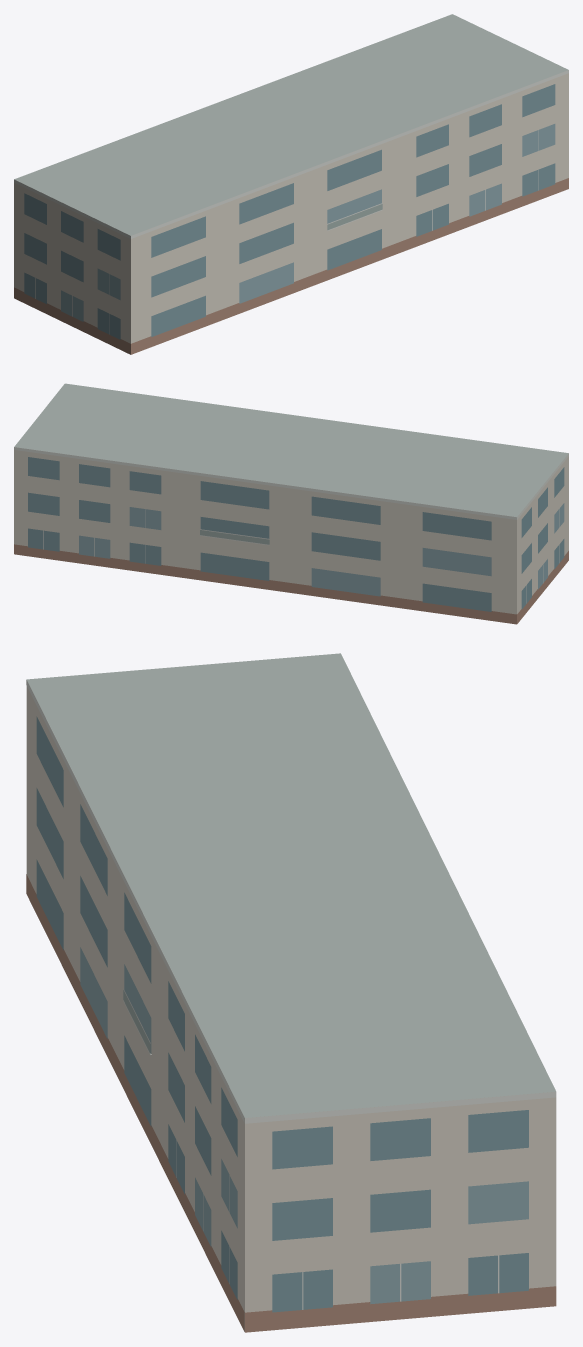
File: survey-upis-32696552.glb
3 renders of one model, top to bottom at view 1: azimuth 30°, elevation 25°; view 2: azimuth 150°, elevation 25°; view 3: azimuth 270°, elevation 25°, orthographic. The views are drawn at different scales.
Parts seen in each view (by area): view 1: survey-upis-32696552.tmp; view 2: survey-upis-32696552.tmp; view 3: survey-upis-32696552.tmp.
Part boxes in pixels (<box>): survey-upis-32696552.tmp: <box>14,14,568,354</box>; survey-upis-32696552.tmp: <box>14,383,568,624</box>; survey-upis-32696552.tmp: <box>26,653,556,1332</box>.
Bounding box in the file's own units: 42.52 × 9.15 × 20.49.
